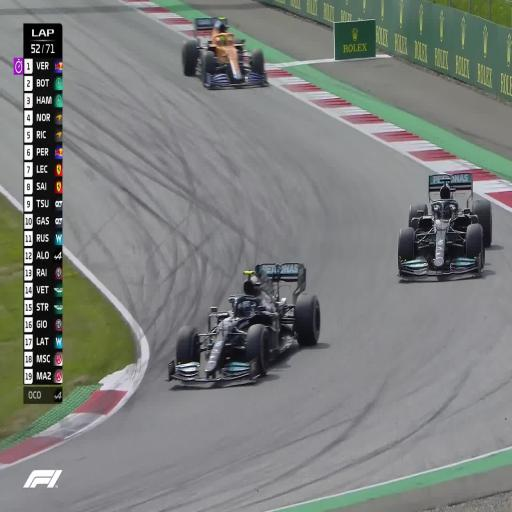f1_car: (167, 262, 320, 382), (398, 173, 491, 278), (182, 17, 268, 88)
